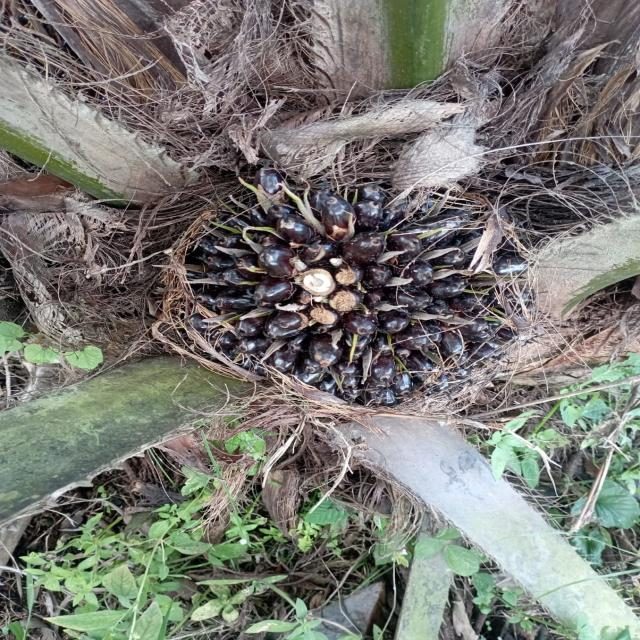fraksi 00: (142, 108, 537, 461)
